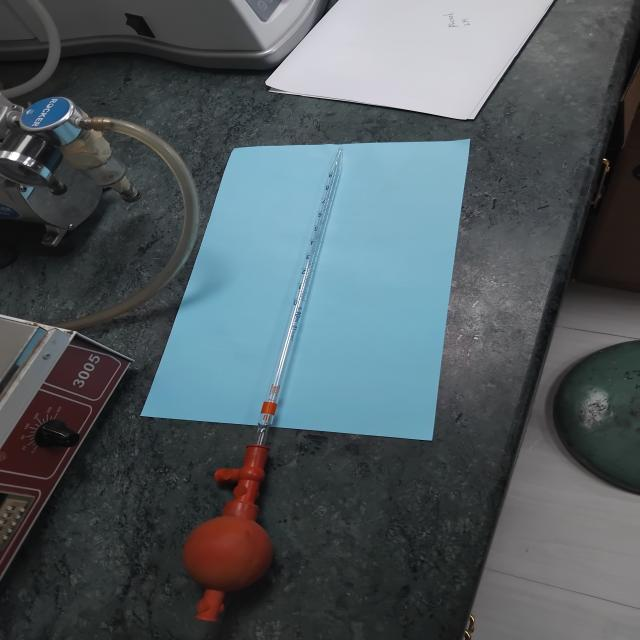Volumetric_Pipet: (154, 102, 397, 640)
